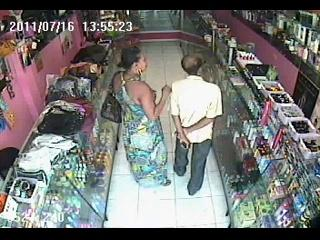Normal: (111, 46, 172, 188), (170, 54, 223, 197)
